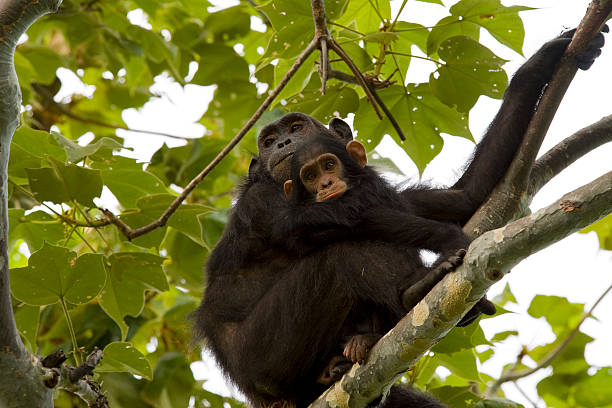chimpanzee: (274, 132, 392, 238)
